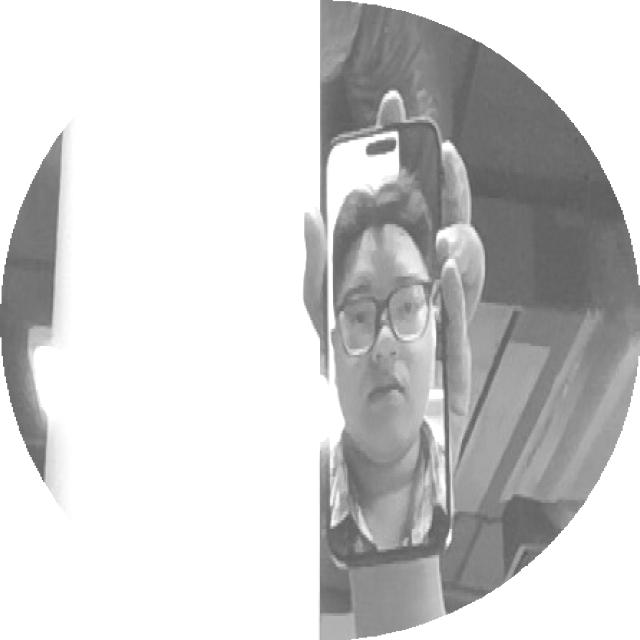fake: (274, 89, 505, 571), (313, 112, 460, 568)
